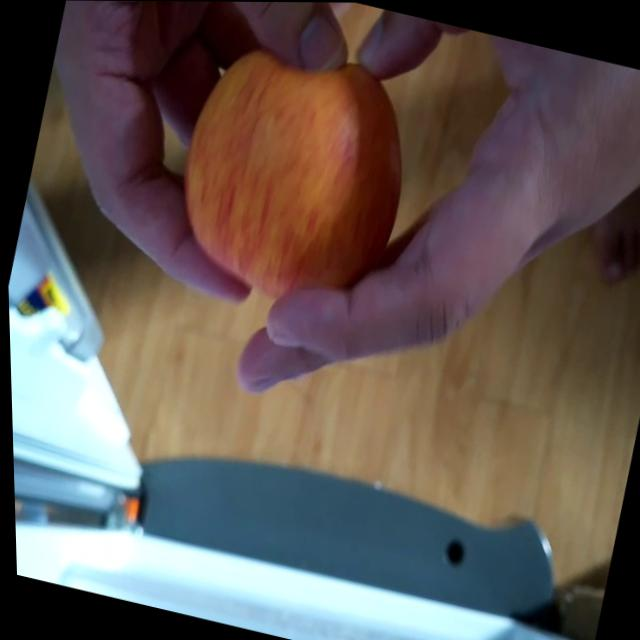apple: (159, 25, 432, 327)
